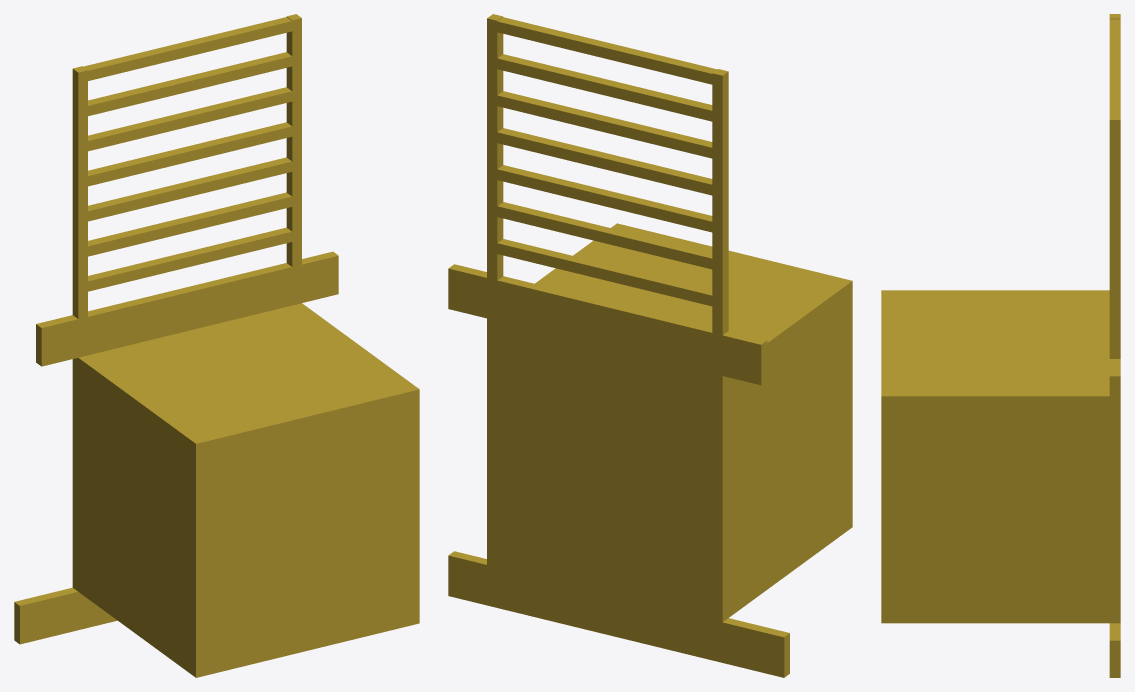
Rendered from rot2_bridge.gltf.
3 views of the same model, side by side, from view 1: azimuth 30°, elevation 25°; view 2: azimuth 150°, elevation 25°; view 3: azimuth 270°, elevation 25° (orthographic). The views are drawn at different scales.
Visible parts, largest first — view 1: rot2.bridge; view 2: rot2.bridge; view 3: rot2.bridge.
Boxes of the visible parts, <box> form: rot2.bridge: <box>14,14,419,677</box>; rot2.bridge: <box>448,14,852,677</box>; rot2.bridge: <box>881,14,1120,677</box>.
Bounding box in the file's own units: 6.5 × 10.86 × 4.36.
